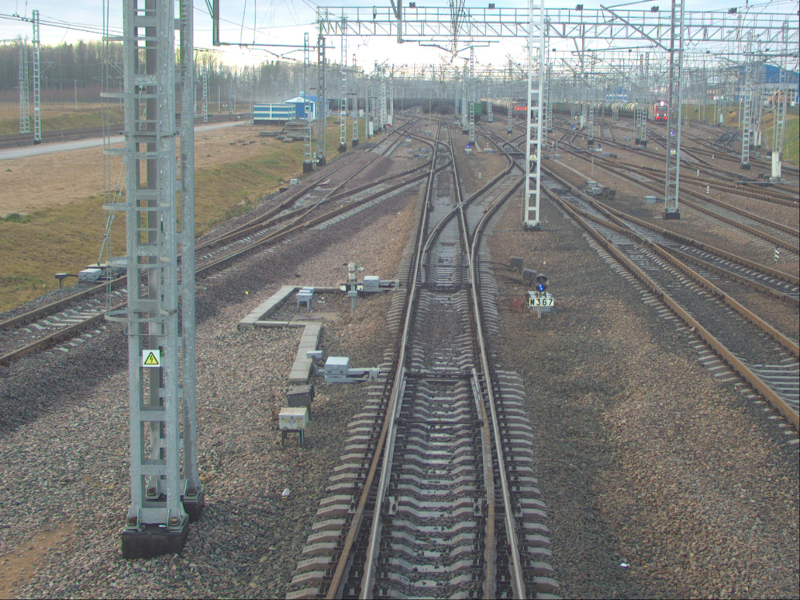straight: (416, 190, 483, 291)
